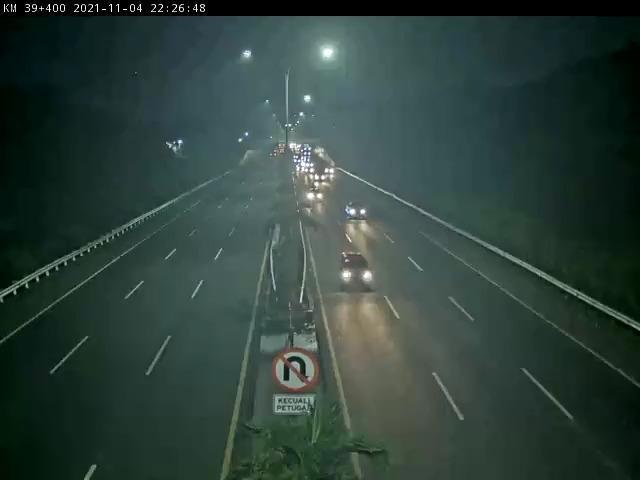car: (337, 253, 378, 297)
